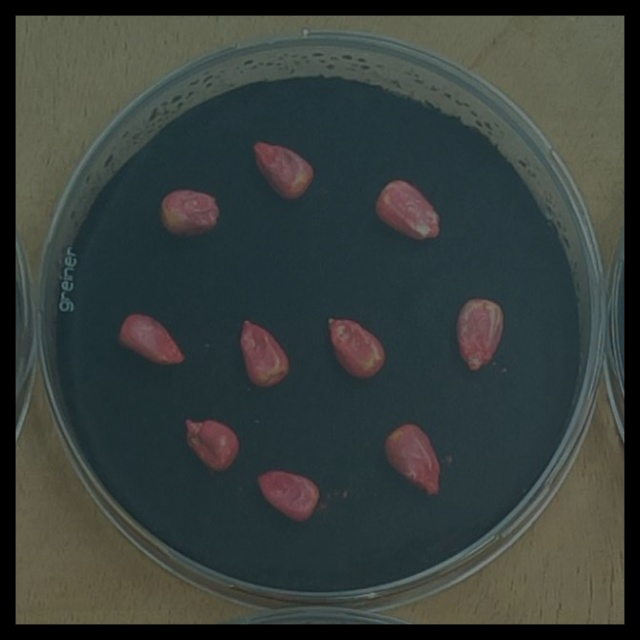Zea mays: (367, 172, 448, 248), (378, 417, 447, 501), (448, 290, 509, 379), (245, 135, 320, 207), (320, 310, 390, 386), (111, 307, 190, 373), (232, 312, 294, 396), (249, 463, 324, 529), (152, 183, 226, 244), (178, 412, 245, 479)
